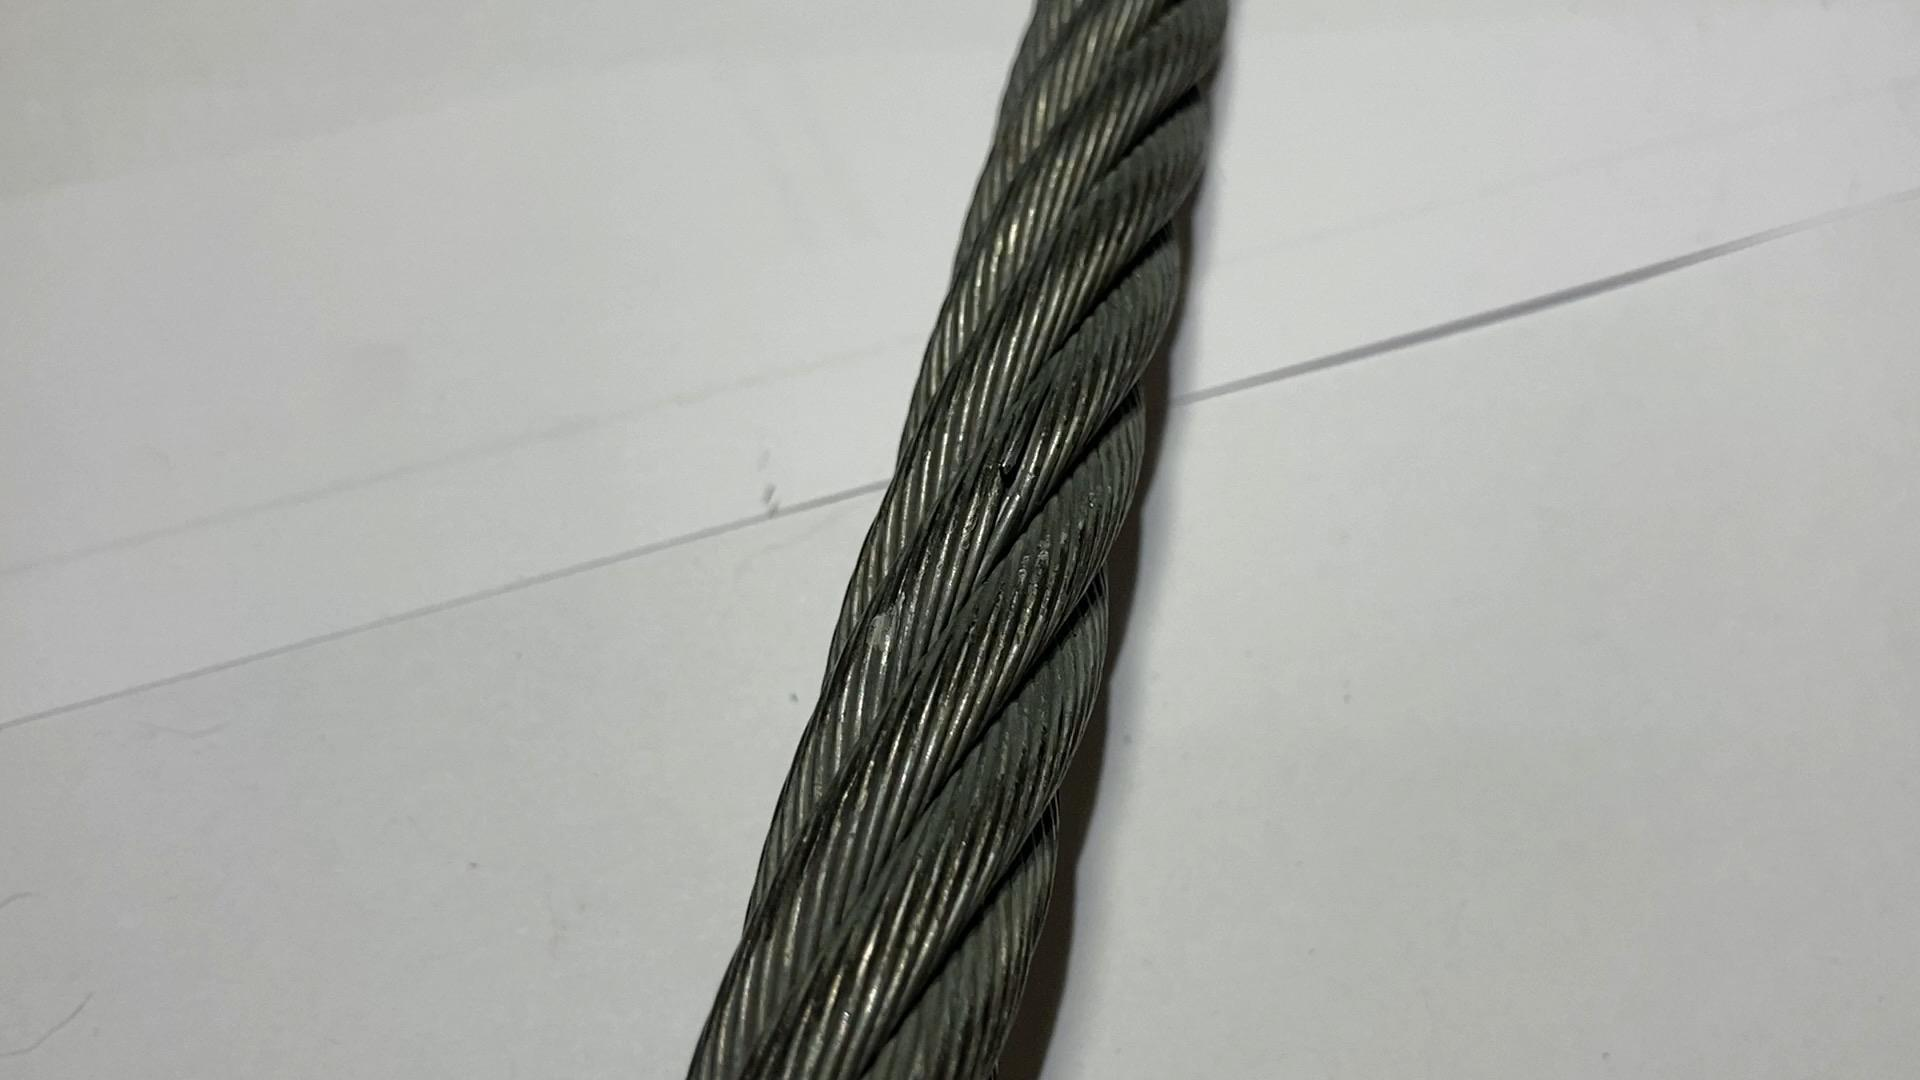break: (985, 400, 1051, 504)
